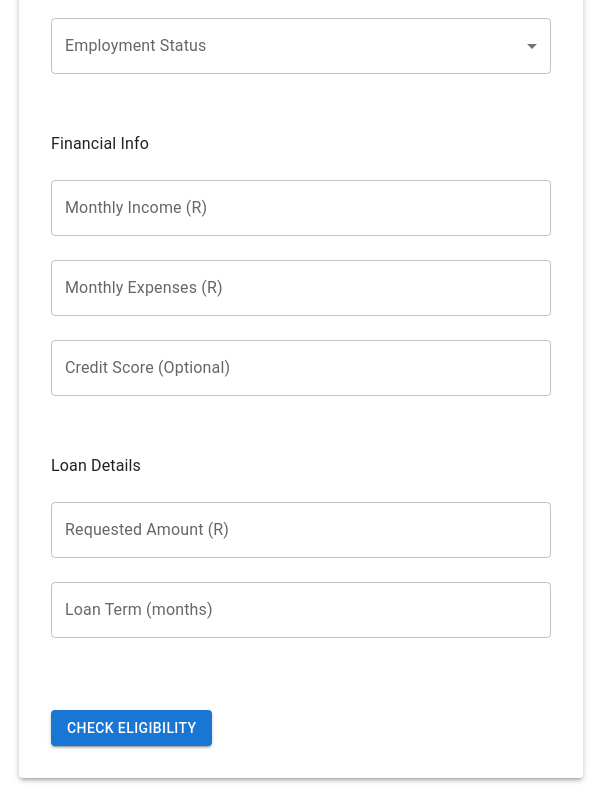
Test case: LoanForm › shows validation errors when required fields are missing
The image size is (603, 810).
(page scrolled)
Note: Directly submit without filling
Click the button "Check Eligibility": (132,728) [51,710,212,746]
(page scrolled)
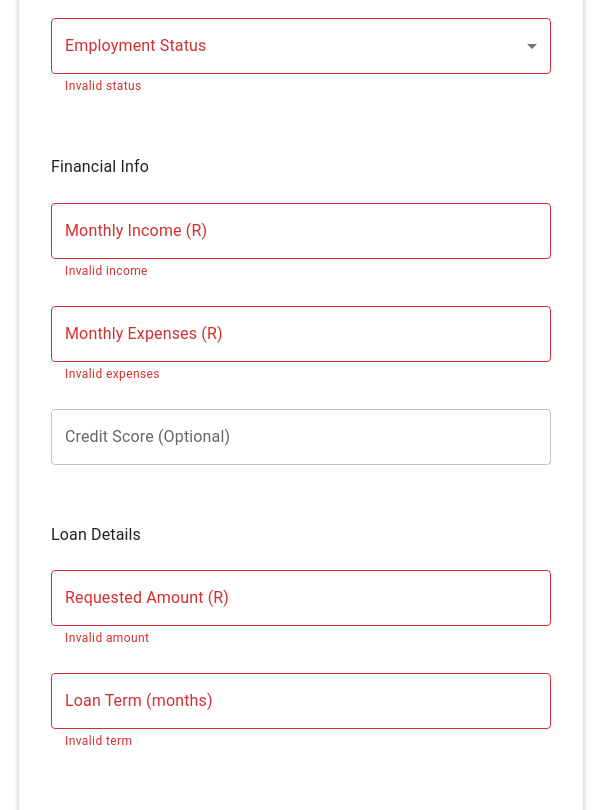
Now the text "Invalid status" is shown, box [65,79,142,93]
Now the text "Invalid income" is shown, box [65,264,148,278]
Now the text "Invalid expenses" is shown, box [65,367,160,381]
